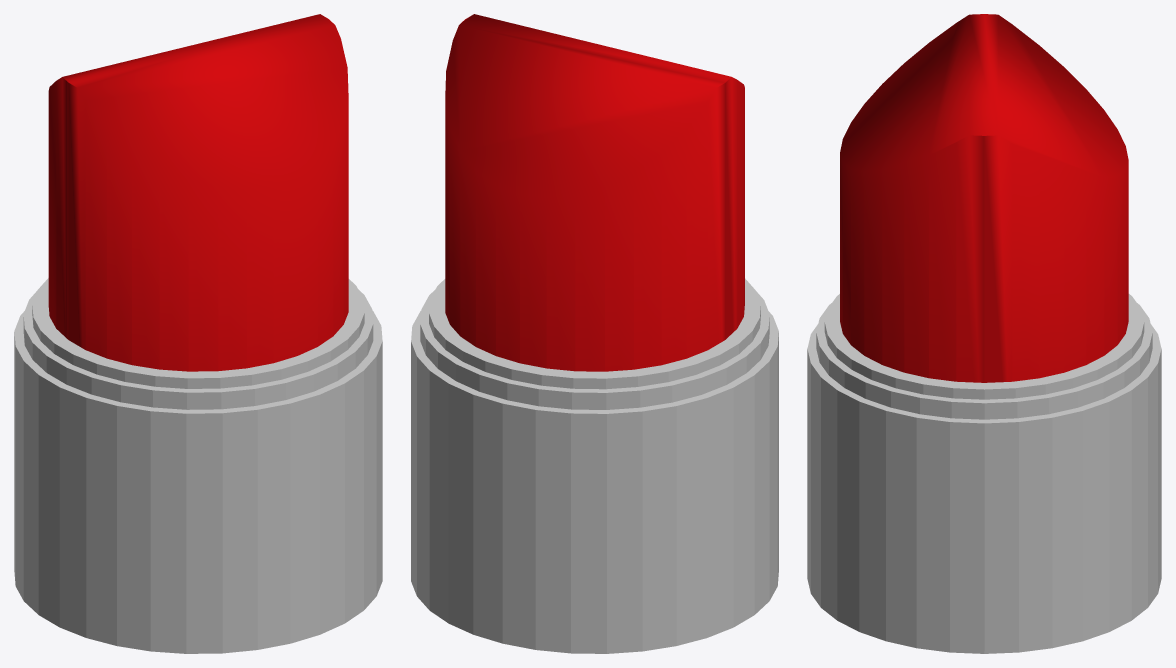
File: BCC_TCCDial.fbx
3 renders of one model, left to right at view 1: azimuth 30°, elevation 25°; view 2: azimuth 150°, elevation 25°; view 3: azimuth 270°, elevation 25°, orthographic. The views are drawn at different scales.
Visible parts, largest first — view 1: Cylinder.006, Cylinder.007; view 2: Cylinder.006, Cylinder.007; view 3: Cylinder.006, Cylinder.007.
Boxes of the visible parts, x1,y1,x2,y2 form: Cylinder.006: (14,278,382,653); Cylinder.007: (48,14,348,371); Cylinder.006: (411,278,778,653); Cylinder.007: (445,14,744,371); Cylinder.006: (807,294,1161,653); Cylinder.007: (840,14,1128,382).
Bounding box in the file's own units: 2.3 × 3.61 × 2.3.
